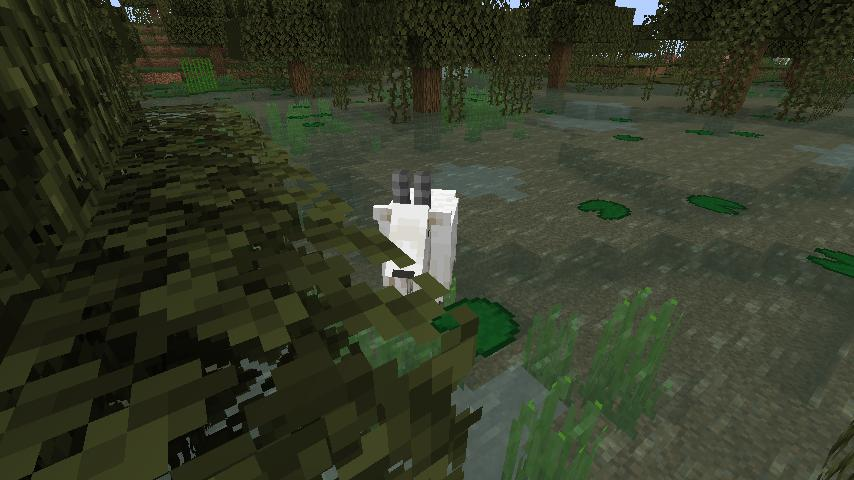goat: (372, 166, 463, 310)
